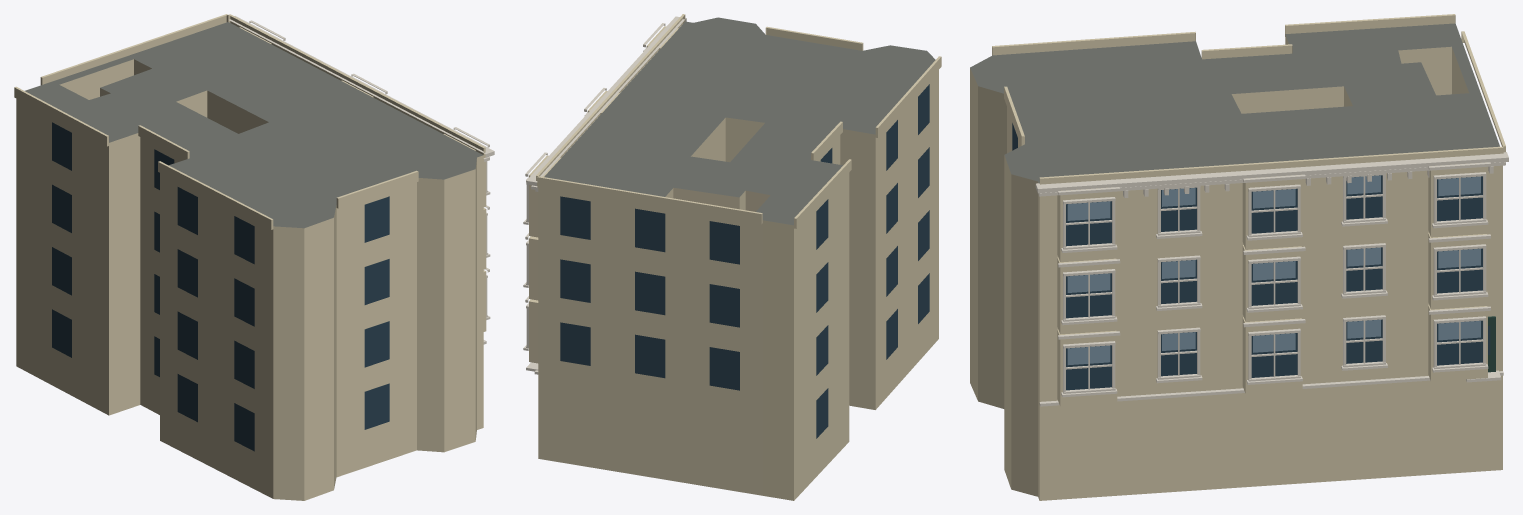
3 views of the same model, side by side, from view 1: azimuth 30°, elevation 25°; view 2: azimuth 150°, elevation 25°; view 3: azimuth 270°, elevation 25° (orthographic). The views are drawn at different scales.
Parts seen in each view (by area): view 1: Footprint 0 / surface 2, Footprint 0 / surface 1, Inset glazing, Facade bay volumes, Cornices and window frames; view 2: Footprint 0 / surface 2, Footprint 0 / surface 1, Inset glazing, Facade bay volumes, Cornices and window frames; view 3: Footprint 0 / surface 2, Footprint 0 / surface 1, Cornices and window frames, Facade bay volumes, Inset glazing, Sky reflection panels.
Boxes of the visible parts, box(x1,y1,x2,y2) form: Footprint 0 / surface 2: box(16, 59, 483, 500); Footprint 0 / surface 1: box(25, 22, 483, 228); Inset glazing: box(52, 122, 389, 451); Facade bay volumes: box(14, 14, 486, 331); Cornices and window frames: box(229, 16, 494, 344); Footprint 0 / surface 2: box(538, 70, 938, 500); Footprint 0 / surface 1: box(544, 17, 935, 225); Inset glazing: box(560, 84, 929, 438); Facade bay volumes: box(529, 14, 941, 363); Cornices and window frames: box(523, 16, 686, 374); Footprint 0 / surface 2: box(970, 35, 1502, 500); Footprint 0 / surface 1: box(970, 23, 1499, 183); Cornices and window frames: box(1035, 152, 1508, 406); Facade bay volumes: box(992, 14, 1505, 406); Inset glazing: box(1012, 123, 1490, 390); Sky reflection panels: box(1067, 175, 1480, 365).
Bounding box in the file's own units: 15.93 × 13.9 × 20.98.
